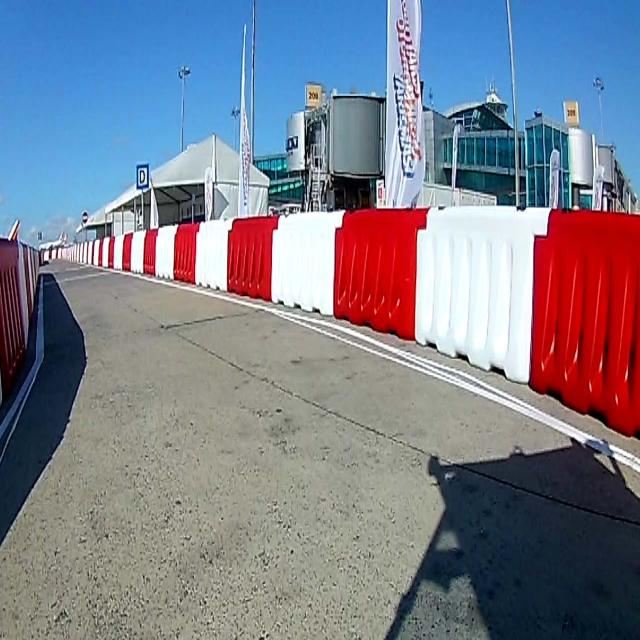durak: (136, 163, 150, 190)
